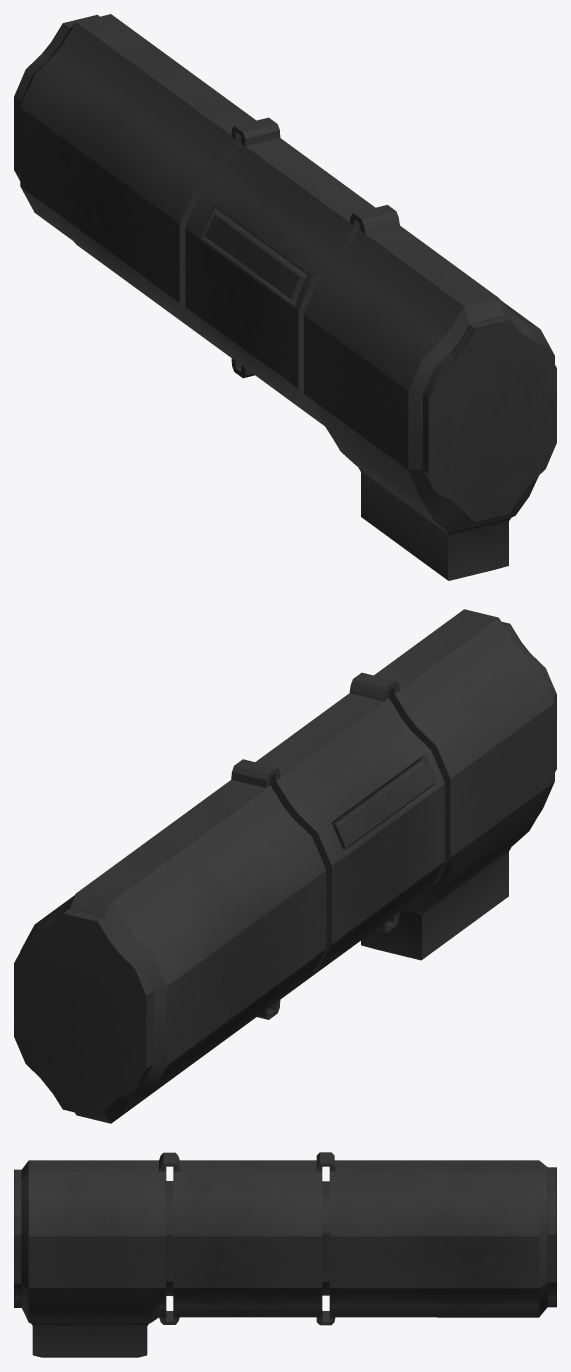
The model's file is Rifle_HT01_Body.fbx.
3 views of the same model, one above another, from view 1: azimuth 30°, elevation 25°; view 2: azimuth 150°, elevation 25°; view 3: azimuth 270°, elevation 25° (orthographic). The views are drawn at different scales.
Visible parts, largest first — view 1: Receiver.000; view 2: Receiver.000; view 3: Receiver.000.
Part boxes in pixels (<box>): Receiver.000: <box>14,14,556,580</box>; Receiver.000: <box>14,609,556,1123</box>; Receiver.000: <box>14,1152,556,1357</box>.
Size of the model in its own units: 13.35 by 25.44 by 65.08.
